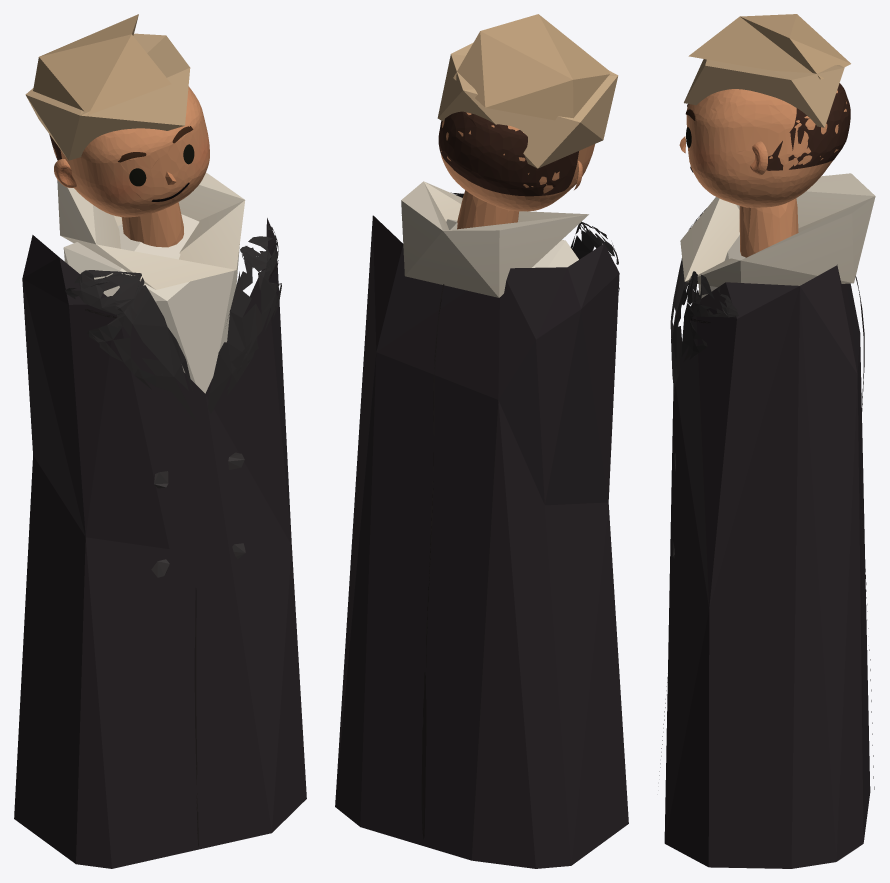
The model's file is jonathan.v1.glb.
3 views of the same model, side by side, from view 1: azimuth 30°, elevation 25°; view 2: azimuth 150°, elevation 25°; view 3: azimuth 270°, elevation 25° (orthographic). The views are drawn at different scales.
Parts seen in each view (by area): view 1: 01 | Tailored overcoat with open V; view 2: 01 | Tailored overcoat with open V; view 3: 01 | Tailored overcoat with open V.
Part boxes in pixels (left/top/right/bottom): 01 | Tailored overcoat with open V: left=14, top=14, right=306, bottom=868; 01 | Tailored overcoat with open V: left=335, top=14, right=628, bottom=868; 01 | Tailored overcoat with open V: left=659, top=14, right=875, bottom=868.
Size of the model in its own units: 0.4155 by 1.31 by 0.3316.
